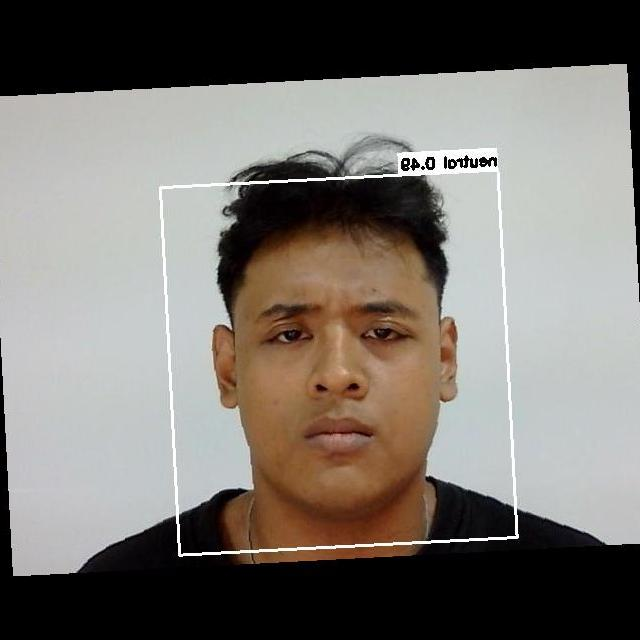Angry: (236, 275, 452, 478)
